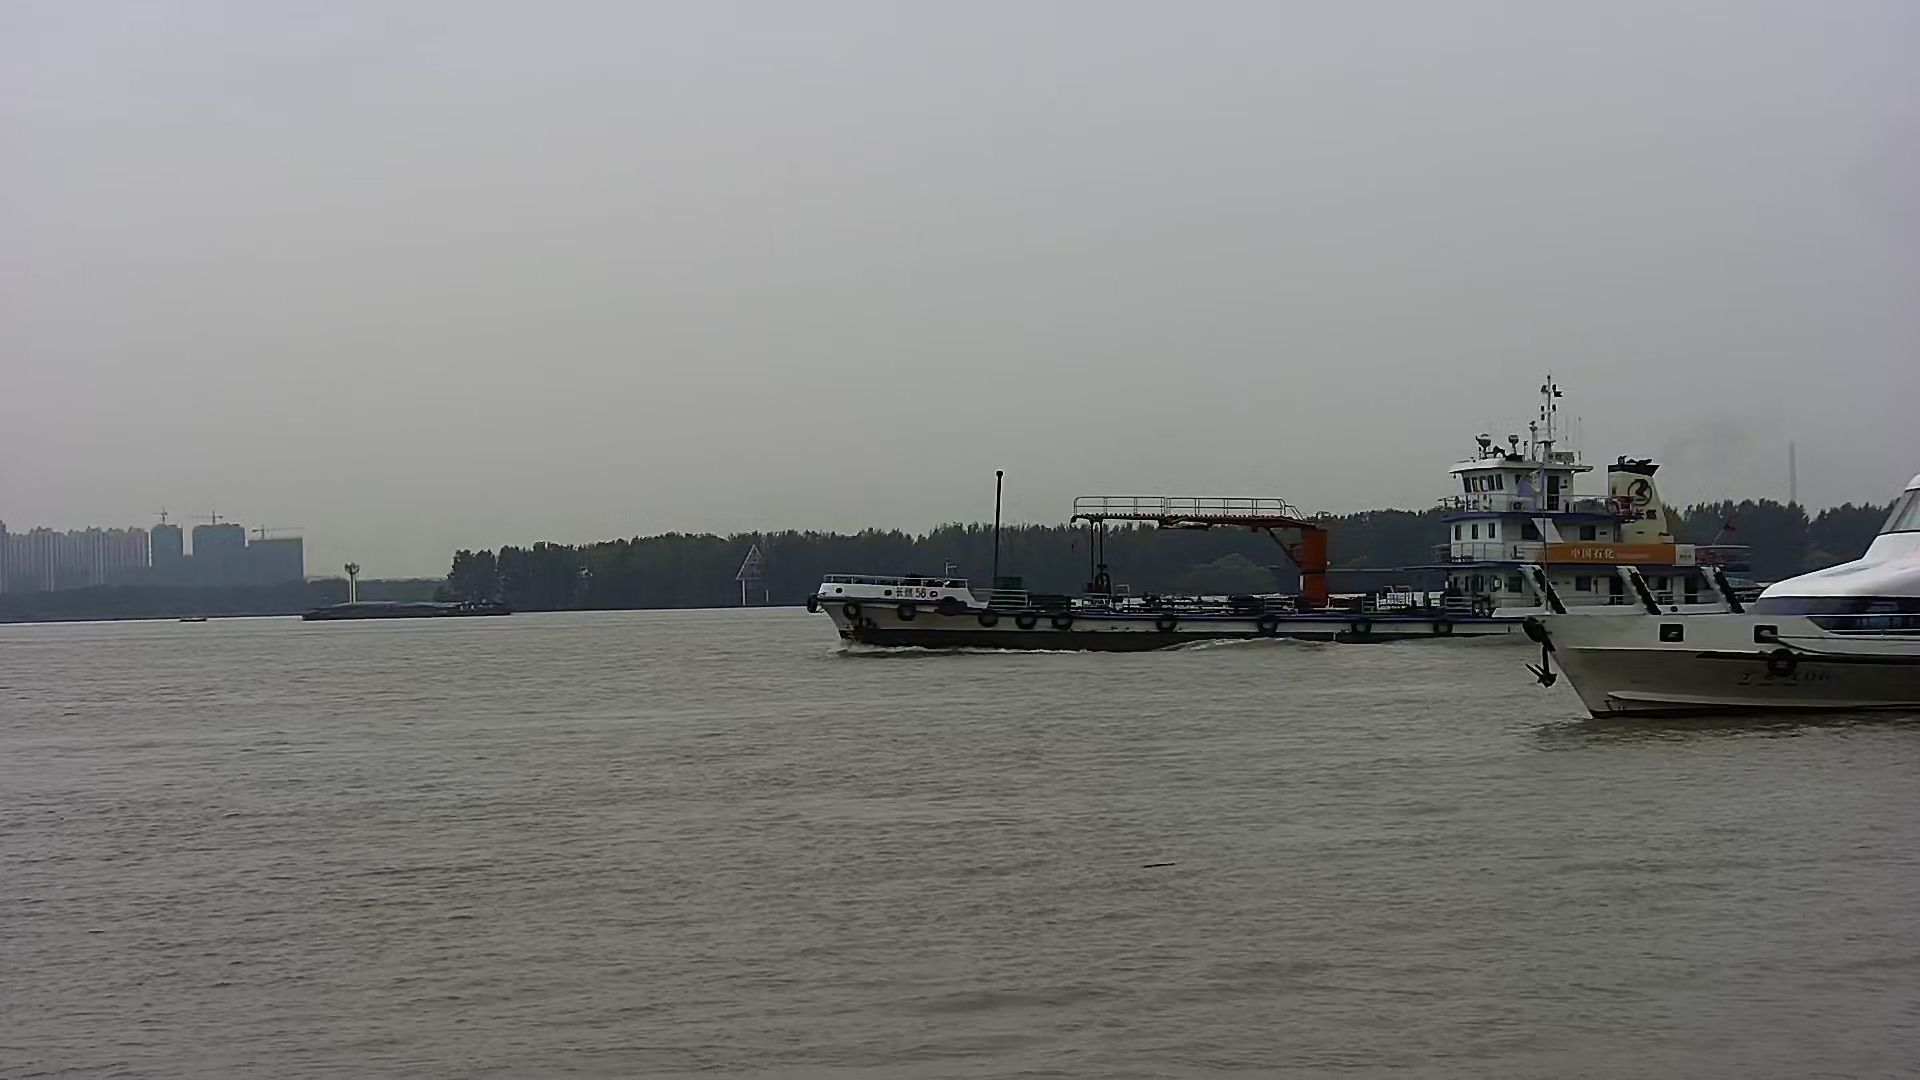ship: (810, 382, 1789, 651), (1527, 463, 1920, 719), (299, 563, 517, 618)
